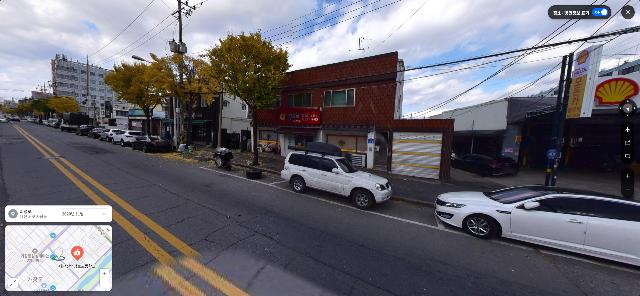ginkgo: (148, 51, 226, 150), (103, 60, 176, 137)
other: (202, 26, 292, 166)
